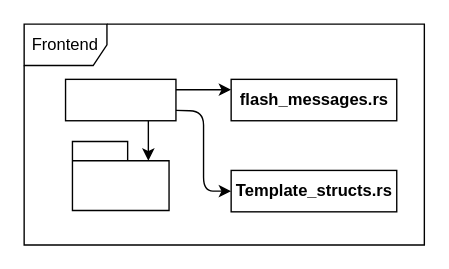
This 449x269 diagram has some shape labels left out. The shapes that lost their labels are listed below. From the top down, each one's centre as x and y in pixels, then its label:
At point (120, 99): "client.rs".
At point (120, 175): "static".
